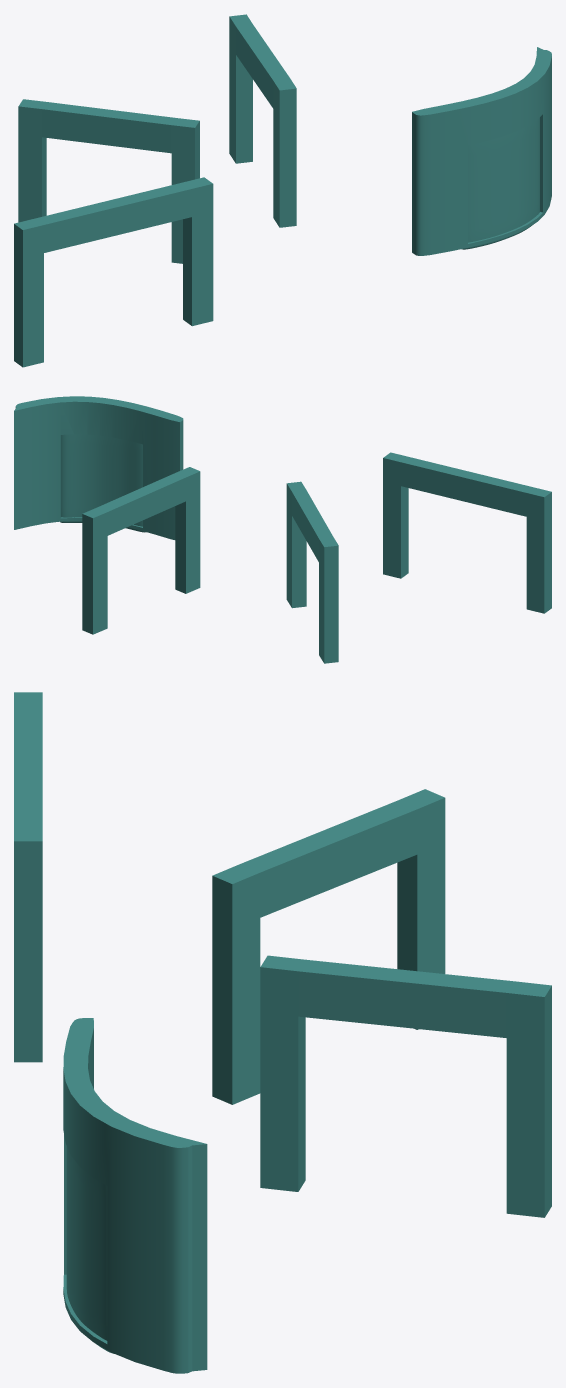
The model's file is PilaresEPorta.fbx.
3 views of the same model, one above another, from view 1: azimuth 30°, elevation 25°; view 2: azimuth 150°, elevation 25°; view 3: azimuth 270°, elevation 25° (orthographic). The views are drawn at different scales.
Visible parts, largest first — view 1: Cube.004, Cube.010, Cube.011, Cube.012, Cube.005; view 2: Cube.004, Cube.010, Cube.012, Cube.011, Cube.005; view 3: Cube.012, Cube.004, Cube.011, Cube.010, Cube.005.
Boxes of the visible parts, x1=… form: Cube.004: x1=412, y1=47, x2=551, y2=255; Cube.010: x1=14, y1=177, x2=213, y2=367; Cube.011: x1=18, y1=99, x2=199, y2=263; Cube.012: x1=229, y1=14, x2=296, y2=227; Cube.005: x1=461, y1=117, x2=539, y2=249; Cube.004: x1=14, y1=396, x2=183, y2=539; Cube.010: x1=383, y1=452, x2=551, y2=613; Cube.012: x1=82, y1=467, x2=200, y2=634; Cube.011: x1=286, y1=481, x2=338, y2=663; Cube.005: x1=60, y1=434, x2=146, y2=532; Cube.012: x1=260, y1=955, x2=551, y2=1217; Cube.004: x1=63, y1=1018, x2=207, y2=1373; Cube.011: x1=212, y1=789, x2=445, y2=1104; Cube.010: x1=14, y1=692, x2=42, y2=1062; Cube.005: x1=66, y1=1146, x2=113, y2=1353.
Bounding box in the file's own units: 2192 × 524 × 1097.
